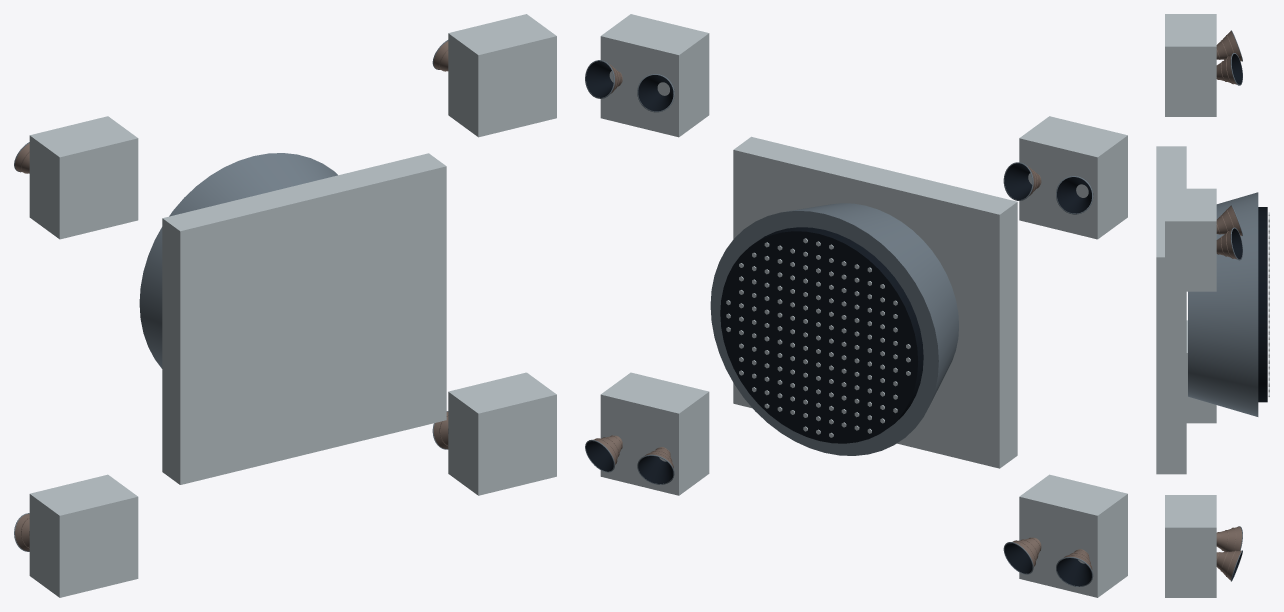
The model's file is dart_propulsion.glb.
The picture shows the model from 3 angles, left to right: view 1: azimuth 30°, elevation 25°; view 2: azimuth 150°, elevation 25°; view 3: azimuth 270°, elevation 25°; orthographic projection. The views are drawn at different scales.
Visible parts, largest first — view 1: dart_propulsion.mesh_Satin_aluminum, dart_propulsion.hydrazine_cluster_03.mesh_Satin_aluminum, dart_propulsion.hydrazine_cluster_01.mesh_Satin_aluminum, dart_propulsion.hydrazine_cluster_04.mesh_Satin_aluminum, dart_propulsion.hydrazine_cluster_02.mesh_Satin_aluminum, dart_propulsion.next_c.mesh_Machined_steel; view 2: dart_propulsion.mesh_Satin_aluminum, dart_propulsion.next_c.ion_grid.mesh_Shadowed_interior, dart_propulsion.next_c.mesh_Machined_steel, dart_propulsion.hydrazine_cluster_04.mesh_Satin_aluminum, dart_propulsion.hydrazine_cluster_03.mesh_Satin_aluminum, dart_propulsion.hydrazine_cluster_02.mesh_Satin_aluminum, dart_propulsion.hydrazine_cluster_01.mesh_Satin_aluminum, dart_propulsion.next_c.ion_grid.mesh_Satin_aluminum, dart_propulsion.hydrazine_cluster_04.thruster_01.bell.mesh_S, dart_propulsion.hydrazine_cluster_03.thruster_01.bell.mesh_S, dart_propulsion.hydrazine_cluster_04.thruster_02.bell.mesh_S, dart_propulsion.hydrazine_cluster_03.thruster_02.bell.mesh_S (+2 smaller); view 3: dart_propulsion.next_c.mesh_Machined_steel, dart_propulsion.mesh_Satin_aluminum, dart_propulsion.hydrazine_cluster_04.mesh_Satin_aluminum, dart_propulsion.hydrazine_cluster_02.mesh_Satin_aluminum, dart_propulsion.hydrazine_cluster_03.mesh_Satin_aluminum, dart_propulsion.next_c.ion_grid.mesh_Shadowed_interior, dart_propulsion.hydrazine_cluster_01.mesh_Satin_aluminum, dart_propulsion.hydrazine_cluster_02.thruster_01.bell.mesh_H, dart_propulsion.hydrazine_cluster_02.thruster_02.bell.mesh_H, dart_propulsion.hydrazine_cluster_03.thruster_01.bell.mesh_H, dart_propulsion.hydrazine_cluster_04.thruster_01.bell.mesh_H, dart_propulsion.next_c.ion_grid.mesh_Satin_aluminum (+4 smaller).
Boxes of the visible parts, <box> form: dart_propulsion.mesh_Satin_aluminum: <box>162,153,446,484</box>; dart_propulsion.hydrazine_cluster_03.mesh_Satin_aluminum: <box>29,116,138,239</box>; dart_propulsion.hydrazine_cluster_01.mesh_Satin_aluminum: <box>29,474,138,597</box>; dart_propulsion.hydrazine_cluster_04.mesh_Satin_aluminum: <box>448,14,556,137</box>; dart_propulsion.hydrazine_cluster_02.mesh_Satin_aluminum: <box>448,372,556,495</box>; dart_propulsion.next_c.mesh_Machined_steel: <box>139,153,337,368</box>; dart_propulsion.mesh_Satin_aluminum: <box>733,136,1017,468</box>; dart_propulsion.next_c.ion_grid.mesh_Shadowed_interior: <box>720,227,923,443</box>; dart_propulsion.next_c.mesh_Machined_steel: <box>710,203,958,455</box>; dart_propulsion.hydrazine_cluster_04.mesh_Satin_aluminum: <box>600,14,709,137</box>; dart_propulsion.hydrazine_cluster_03.mesh_Satin_aluminum: <box>1019,116,1127,239</box>; dart_propulsion.hydrazine_cluster_02.mesh_Satin_aluminum: <box>600,372,709,495</box>; dart_propulsion.hydrazine_cluster_01.mesh_Satin_aluminum: <box>1019,474,1127,597</box>; dart_propulsion.next_c.ion_grid.mesh_Satin_aluminum: <box>726,238,910,437</box>; dart_propulsion.hydrazine_cluster_04.thruster_01.bell.mesh_S: <box>638,75,673,111</box>; dart_propulsion.hydrazine_cluster_03.thruster_01.bell.mesh_S: <box>1057,177,1091,213</box>; dart_propulsion.hydrazine_cluster_04.thruster_02.bell.mesh_S: <box>586,61,613,97</box>; dart_propulsion.hydrazine_cluster_03.thruster_02.bell.mesh_S: <box>1004,163,1032,199</box>; dart_propulsion.next_c.mesh_Machined_steel: <box>1188,192,1258,416</box>; dart_propulsion.mesh_Satin_aluminum: <box>1156,146,1186,474</box>; dart_propulsion.hydrazine_cluster_04.mesh_Satin_aluminum: <box>1165,188,1216,291</box>; dart_propulsion.hydrazine_cluster_02.mesh_Satin_aluminum: <box>1165,495,1216,597</box>; dart_propulsion.hydrazine_cluster_03.mesh_Satin_aluminum: <box>1165,14,1216,116</box>; dart_propulsion.next_c.ion_grid.mesh_Shadowed_interior: <box>1258,207,1267,402</box>; dart_propulsion.hydrazine_cluster_01.mesh_Satin_aluminum: <box>1186,320,1216,423</box>; dart_propulsion.hydrazine_cluster_02.thruster_01.bell.mesh_H: <box>1216,526,1242,551</box>; dart_propulsion.hydrazine_cluster_02.thruster_02.bell.mesh_H: <box>1216,550,1241,580</box>; dart_propulsion.hydrazine_cluster_03.thruster_01.bell.mesh_H: <box>1216,31,1242,61</box>; dart_propulsion.hydrazine_cluster_04.thruster_01.bell.mesh_H: <box>1216,206,1242,235</box>; dart_propulsion.next_c.ion_grid.mesh_Satin_aluminum: <box>1268,212,1269,397</box>.
Bounding box in the file's own units: 1.07 × 0.885 × 0.2415.
